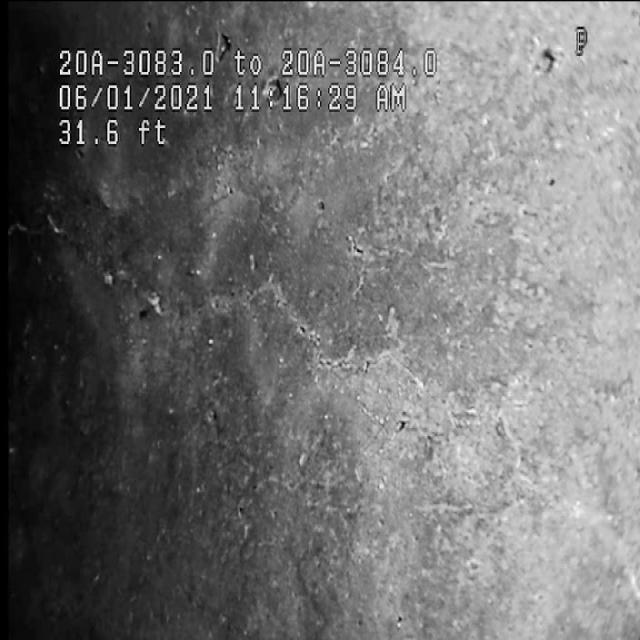Crack: (52, 184, 504, 433)
